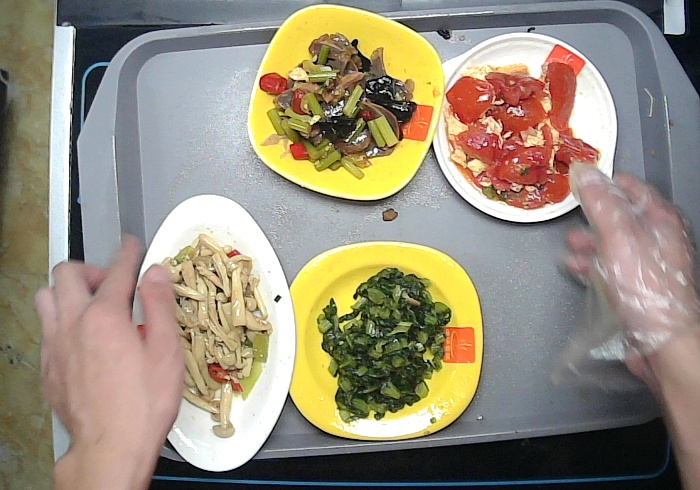SHKJ-Bao_Yu_Pan: (429, 30, 620, 228)
SHKJ-Huang_Se_Cai_Die: (245, 1, 448, 203)
SHKJ-Huang_Se_Si_Fang_Cai_Die: (281, 238, 486, 443)
SHKJ-Yu_Pan: (126, 189, 300, 474)
